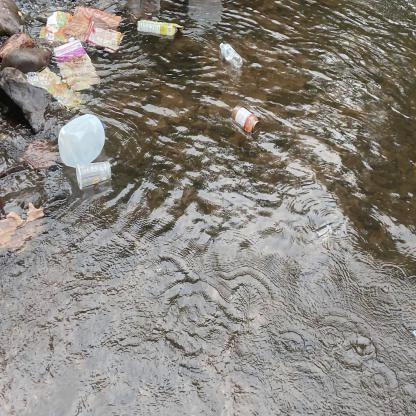Glass: (227, 104, 263, 144)
Plastic: (53, 110, 108, 172), (72, 158, 112, 196), (216, 39, 246, 75)
Trash: (43, 2, 125, 46), (0, 200, 50, 257)
